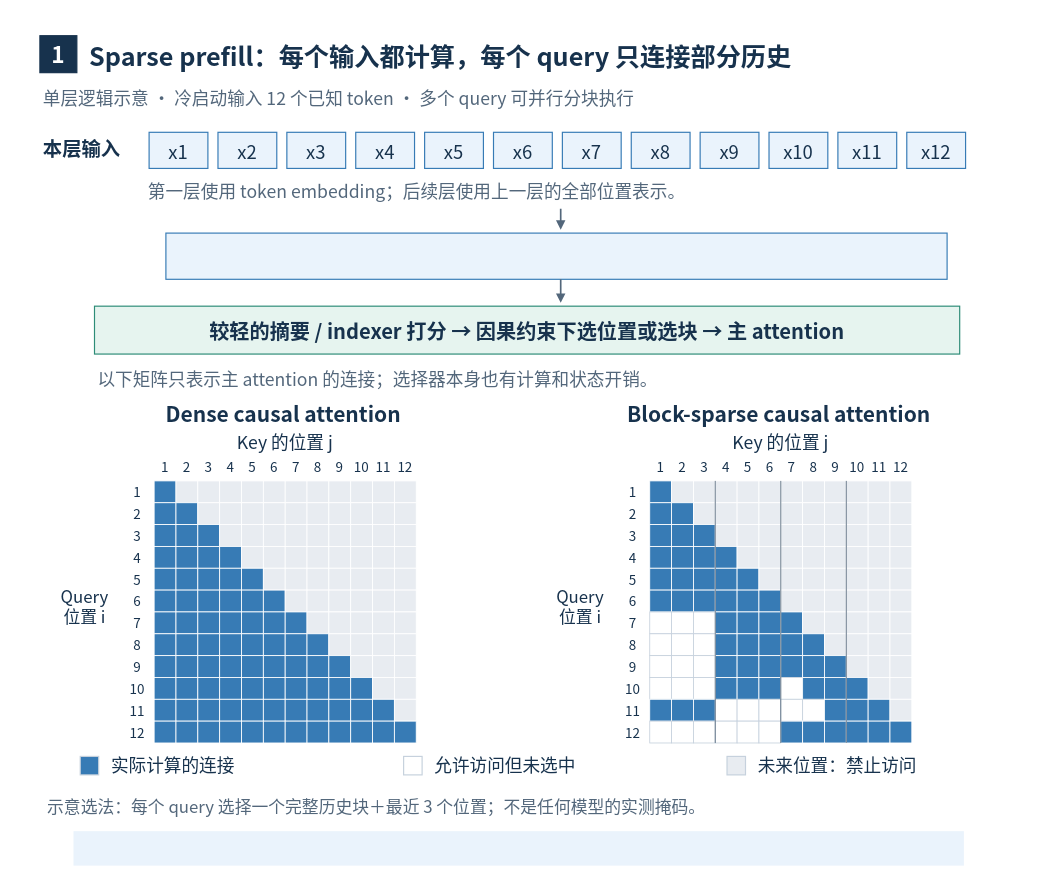
Some shapes in this 1050 by 894 pixel diagram are drawn without their labels. The centre of each missing label's shape, as x and y in pixels:
所有位置的 attention 输出 → 残差 / FFN → 下一层；直到最后一层: (x=518, y=848)
所有新输入位置生成本层 Q、K、V / 对应压缩表示: (x=556, y=255)
